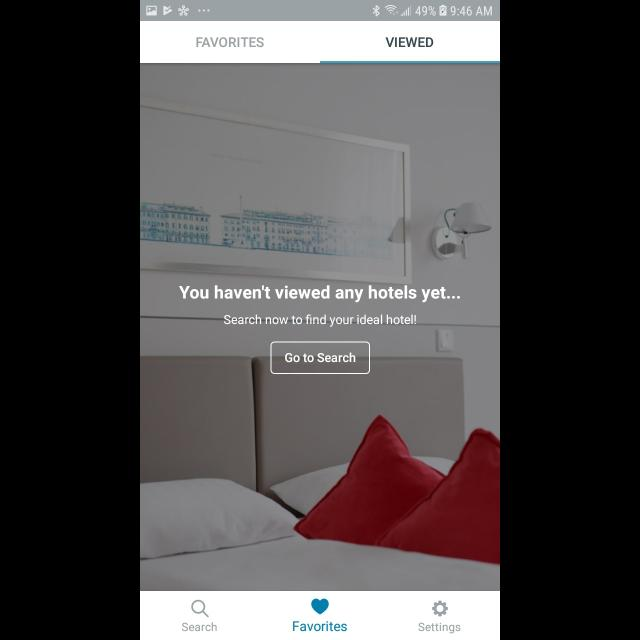icon: (191, 599, 209, 617), (311, 598, 329, 614), (432, 600, 448, 616)
image: (140, 64, 500, 590)
text: (180, 285, 460, 303), (224, 314, 416, 328), (196, 36, 264, 48), (386, 36, 434, 48), (293, 621, 347, 631), (419, 622, 461, 634), (182, 622, 218, 632)
textbutton: (270, 342, 370, 374)
uppertaskbar: (140, 1, 500, 22)
